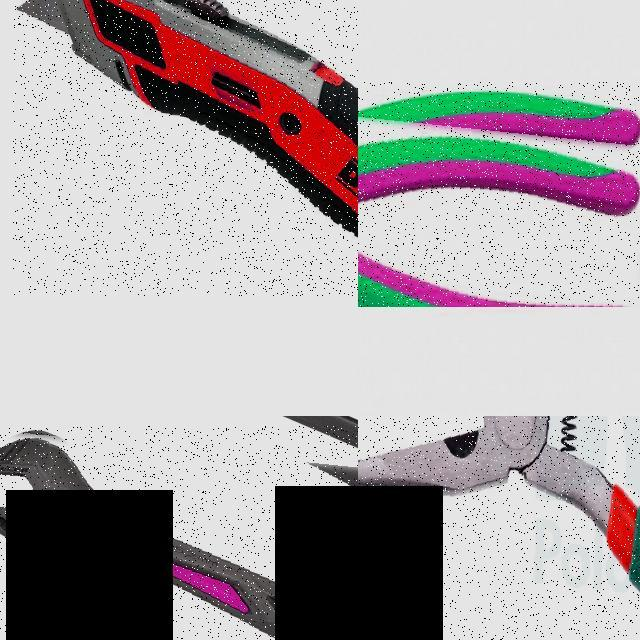estilete: (17, 0, 357, 234)
